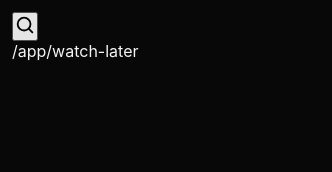
it: NavSearch › takes you to Discover results once you pause typing
Later steps or results of the test are not shown.
Click the button named "Search".
click(25, 26)  # box [12, 12, 38, 41]
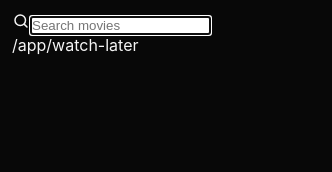
Type "dune" into the field labelled "Search movies".
click(120, 26); type("dune")  # box [30, 16, 211, 35]
Wait 300 ms
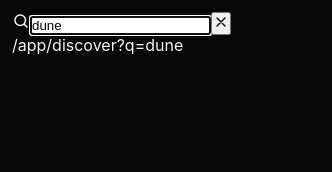
Check: the text with test id "where" reads "/app/discover?q=dune", box [12, 35, 183, 55]
